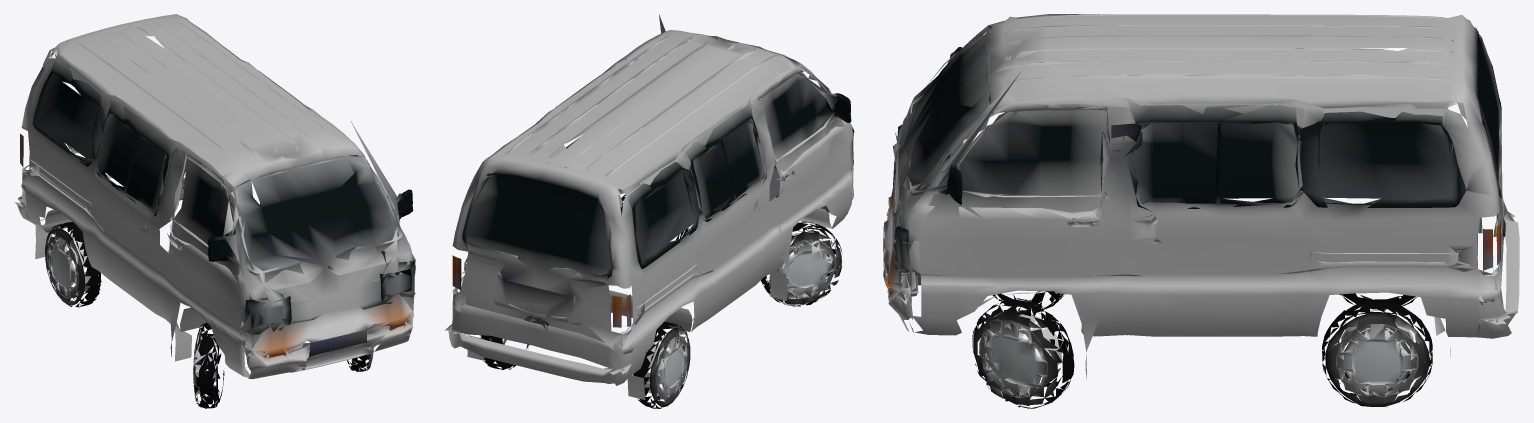
The model's file is carry_lo.glb.
3 renders of one model, left to right at view 1: azimuth 30°, elevation 25°; view 2: azimuth 150°, elevation 25°; view 3: azimuth 270°, elevation 25°, orthographic. The views are drawn at different scales.
Parts seen in each view (by area): view 1: body_q, wRR_q, wFR_q; view 2: body_q, wFR_q, wRR_q, wRL_q; view 3: body_q, wRL_q, wFL_q.
Part boxes in pixels (bbox=[...]): body_q: bbox=[14, 14, 415, 379]; wRR_q: bbox=[45, 222, 101, 307]; wFR_q: bbox=[193, 322, 224, 408]; body_q: bbox=[444, 14, 854, 399]; wFR_q: bbox=[761, 221, 842, 306]; wRR_q: bbox=[633, 322, 690, 408]; wRL_q: bbox=[480, 335, 529, 369]; body_q: bbox=[883, 14, 1519, 379]; wRL_q: bbox=[1322, 301, 1432, 407]; wFL_q: bbox=[972, 298, 1074, 408].
Bounding box in the file's own units: 1.66 × 1.92 × 3.39.
